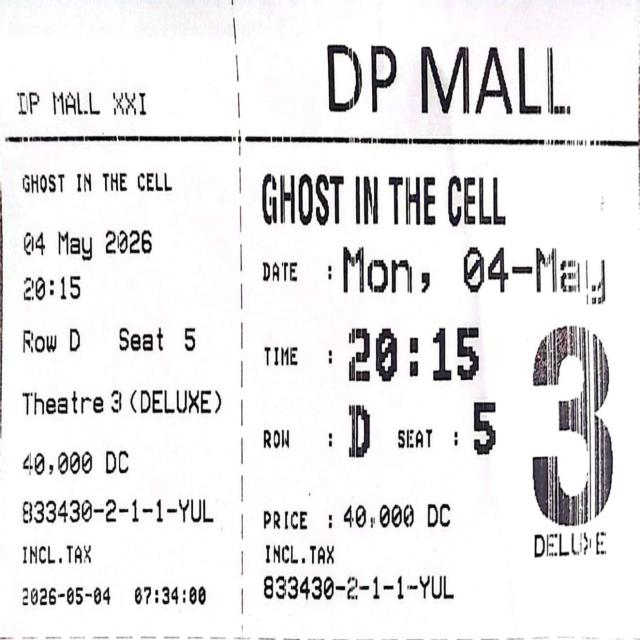date: (334, 239, 614, 304), (18, 230, 167, 265)
store: (317, 36, 578, 125), (15, 74, 164, 128)
total: (260, 498, 472, 542)
